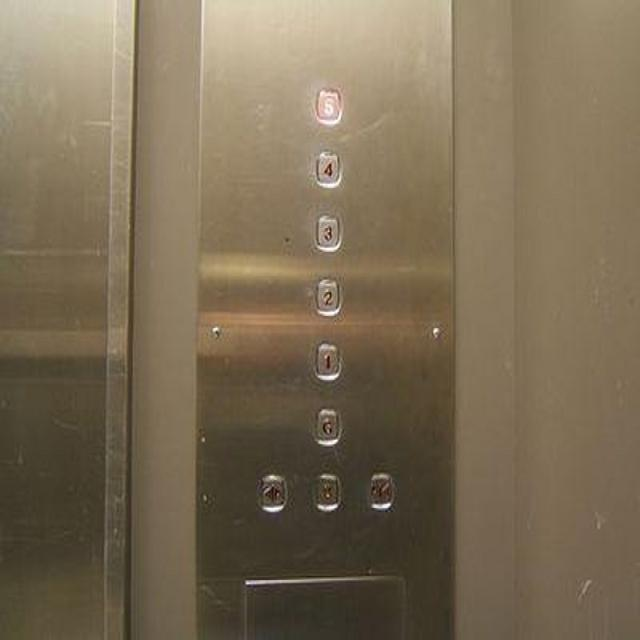1: (311, 335, 343, 385)
2: (311, 276, 342, 319)
3: (312, 209, 343, 252)
4: (313, 147, 343, 189)
5: (314, 83, 342, 124)
G: (311, 403, 342, 445)
blur: (308, 468, 345, 512), (367, 469, 394, 515)
open: (254, 470, 286, 514)
